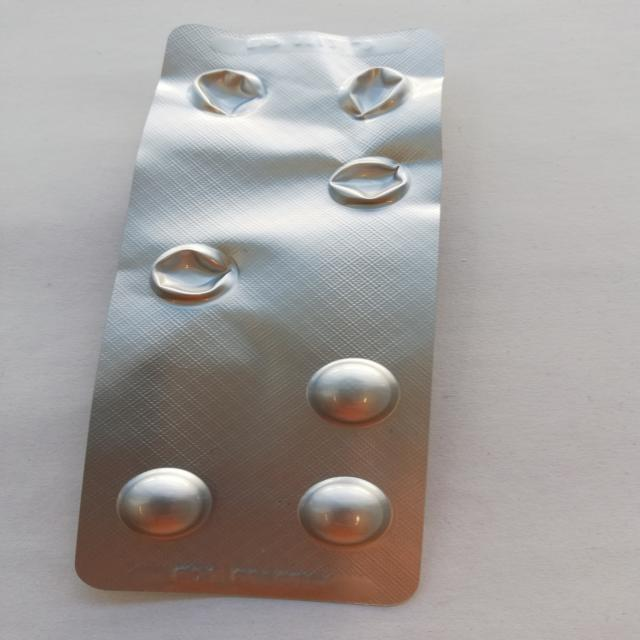Empty: (138, 238, 245, 306), (319, 153, 417, 210), (331, 63, 419, 122), (183, 63, 273, 120)
Pill: (111, 463, 223, 540), (292, 473, 392, 551), (304, 354, 406, 428)
